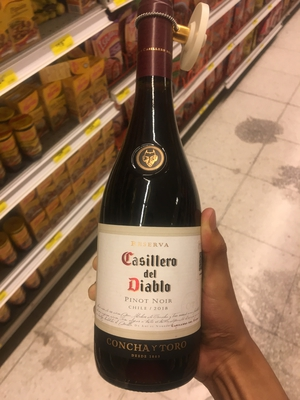casillero del diablo pinot noir: (92, 14, 212, 384)
